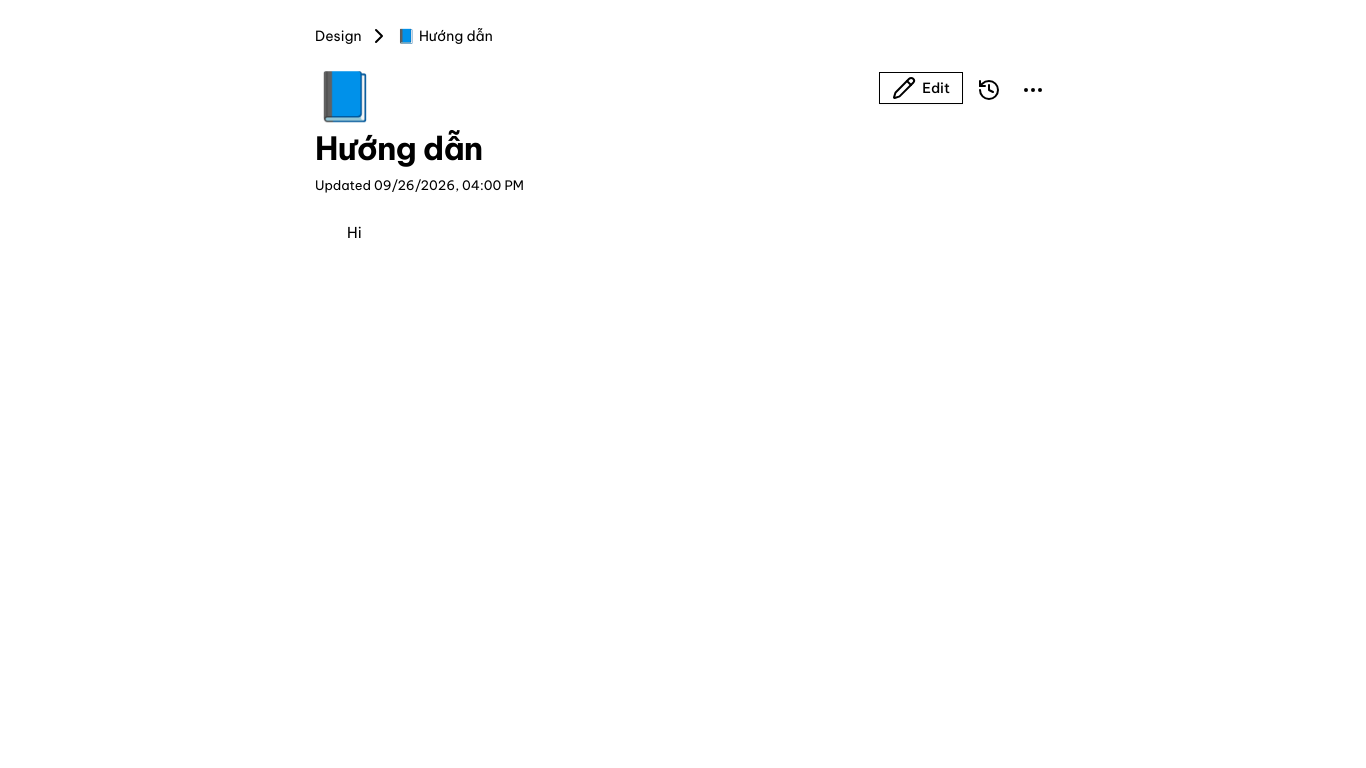
PageView › changes and removes the icon through setPageIconAction
Click the button with aria-label "Edit page": (921,88) [879,72,963,104]
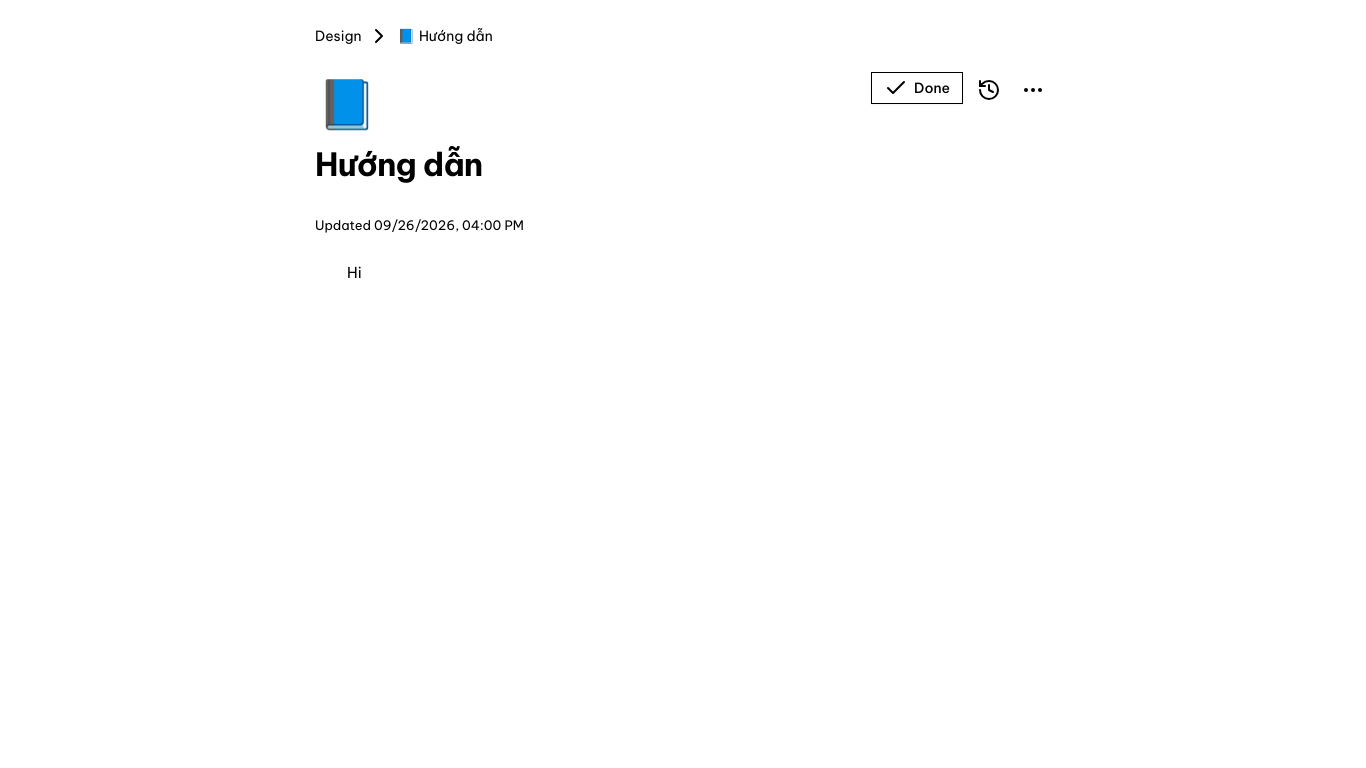
Click the button named "Change icon": (347,104) [315,72,379,136]
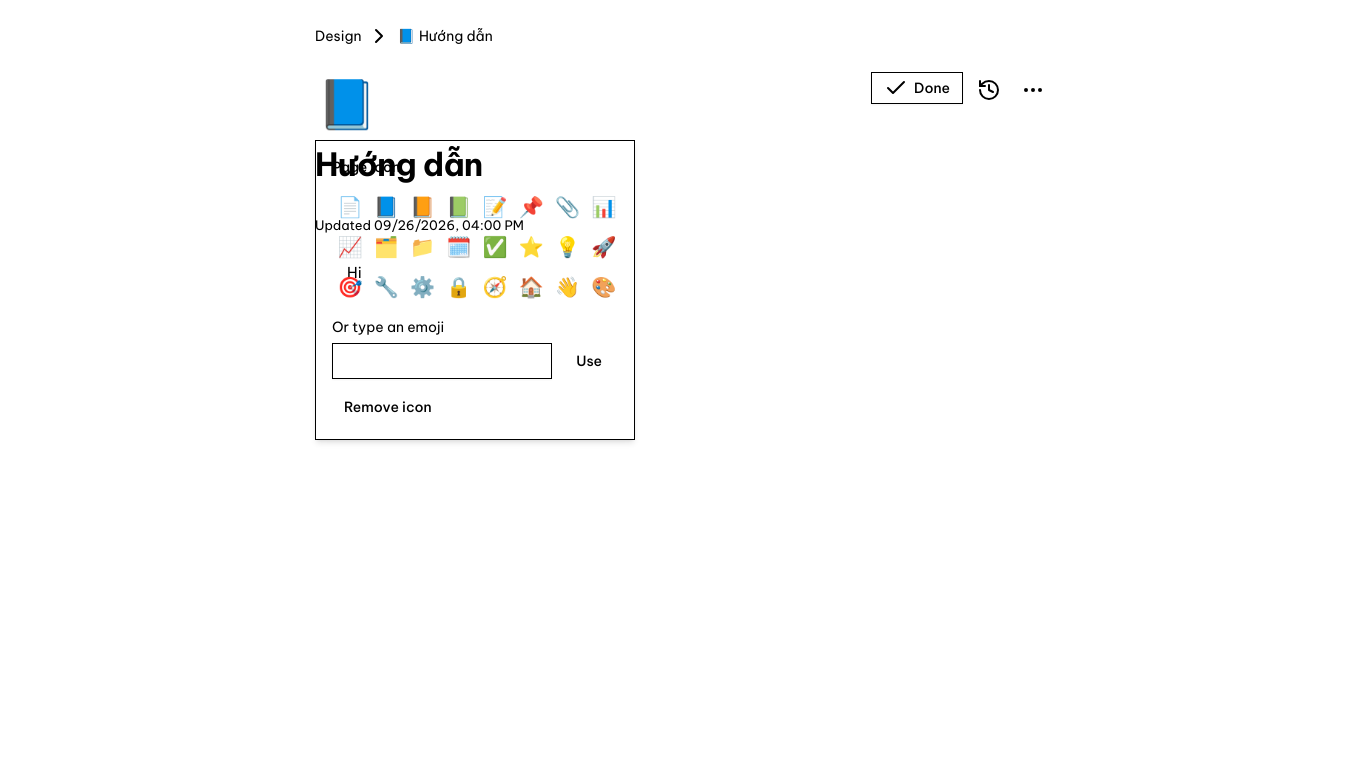
Click the button "🚀": (604,247) [586,229,622,265]
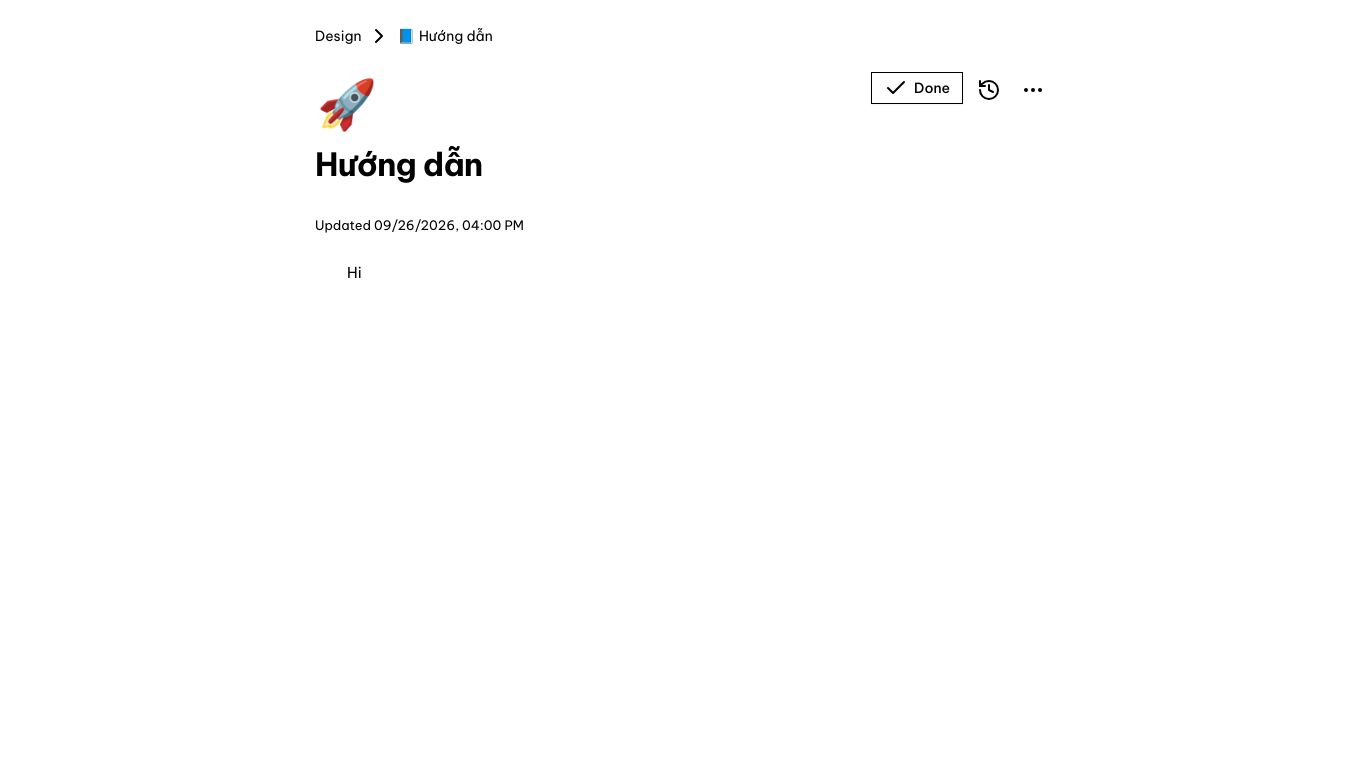
Click the button named "Change icon": (347,104) [315,72,379,136]
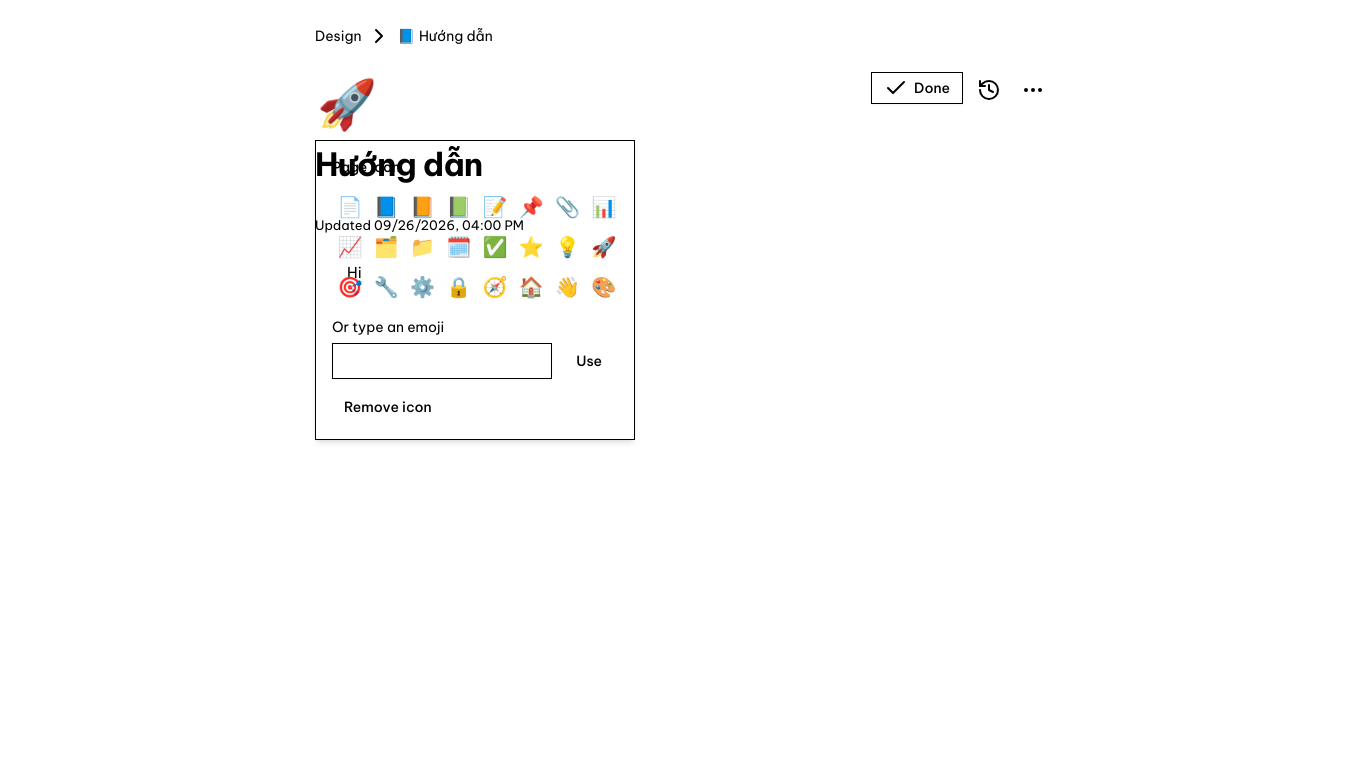
Click the button "Remove icon": (388,407) [332,391,444,423]
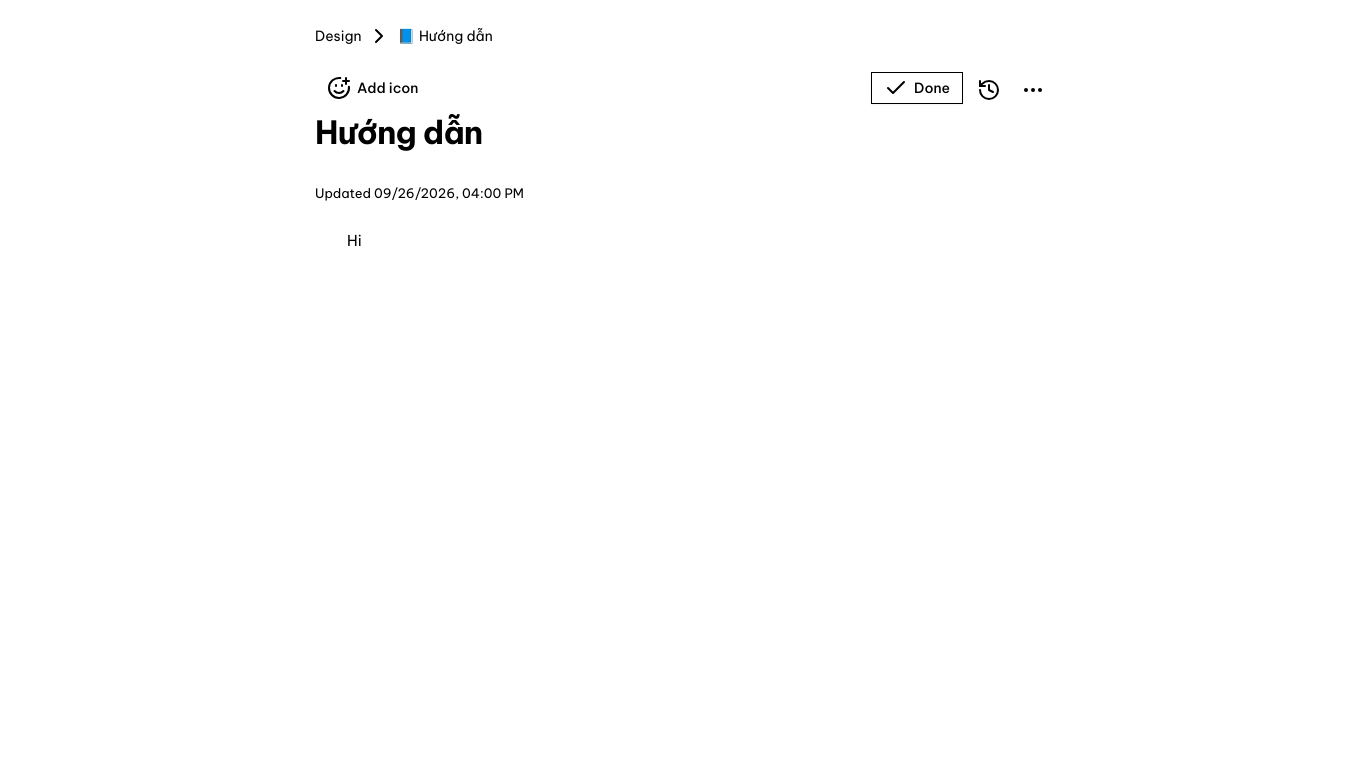
Expected: the button "Add icon" is shown, [315,72,430,104]
